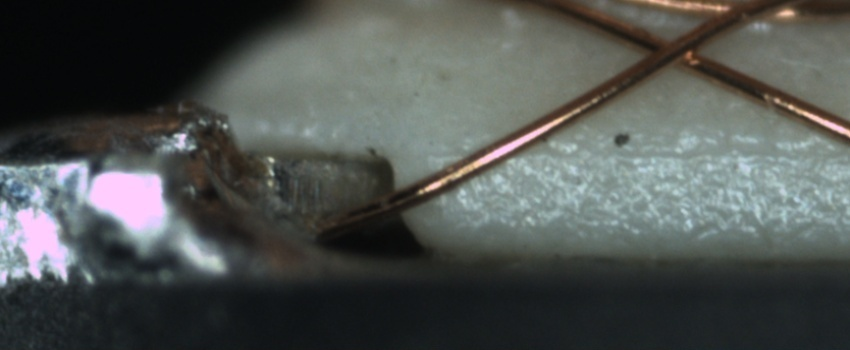CL: (629, 20, 720, 77)
DL: (452, 127, 849, 179)
